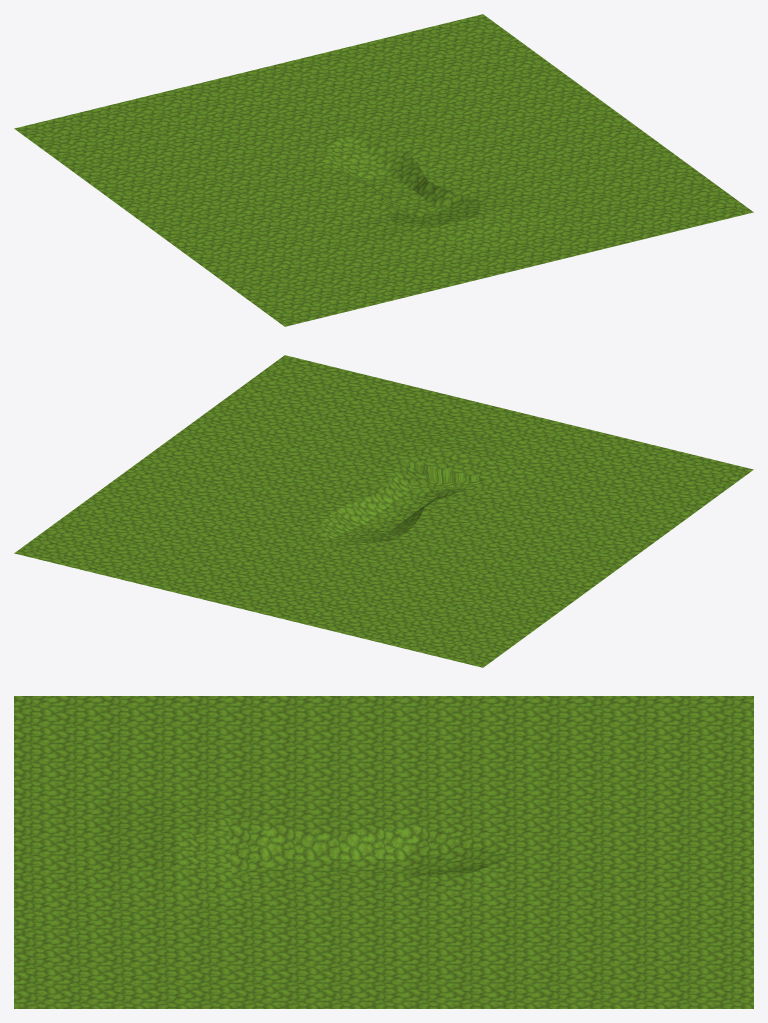
File: land.gltf
3 renders of one model, top to bottom at view 1: azimuth 30°, elevation 25°; view 2: azimuth 150°, elevation 25°; view 3: azimuth 270°, elevation 25°, orthographic. The views are drawn at different scales.
Parts seen in each view (by area): view 1: land; view 2: land; view 3: land.
Boxes of the visible parts, <box> form: land: <box>14,14,753,326</box>; land: <box>14,355,753,667</box>; land: <box>14,696,753,1008</box>.
Bounding box in the file's own units: 8.1 × 0.2948 × 8.1.
Materials: 1 (1 with a texture image).
